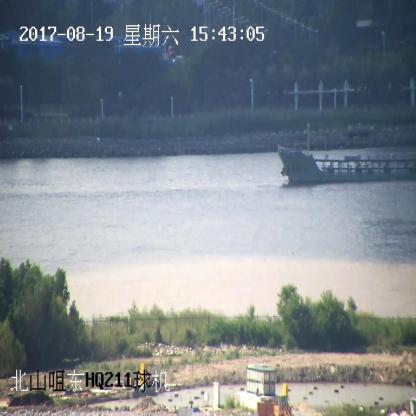Bulk Carrier: (277, 142, 416, 184)
